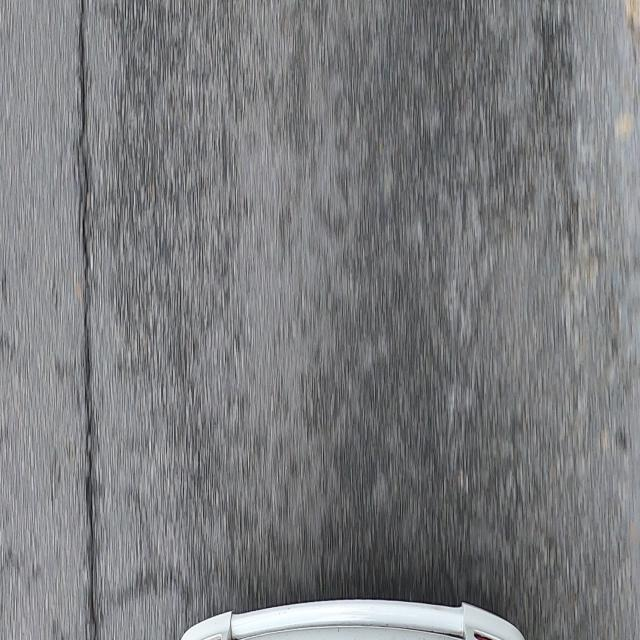Retak-Memanjang: (73, 1, 97, 633)
